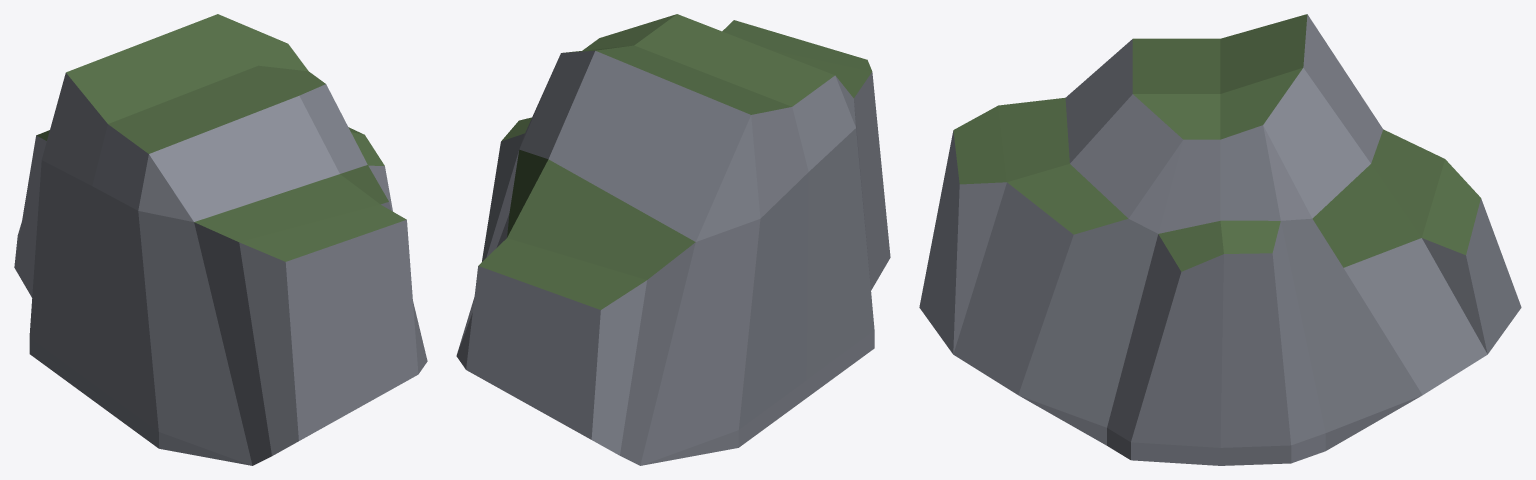
Rendered from Blends_Rock_Moss_4.glb.
The picture shows the model from 3 angles, left to right: view 1: azimuth 30°, elevation 25°; view 2: azimuth 150°, elevation 25°; view 3: azimuth 270°, elevation 25°; orthographic projection. The views are drawn at different scales.
Parts seen in each view (by area): view 1: Rock_Moss_4; view 2: Rock_Moss_4; view 3: Rock_Moss_4.
Boxes of the visible parts, x1,y1,x2,y2 form: Rock_Moss_4: (14, 14, 427, 465); Rock_Moss_4: (456, 14, 890, 465); Rock_Moss_4: (919, 14, 1521, 465).
Bounding box in the file's own units: 0.7436 × 0.7836 × 1.25.
